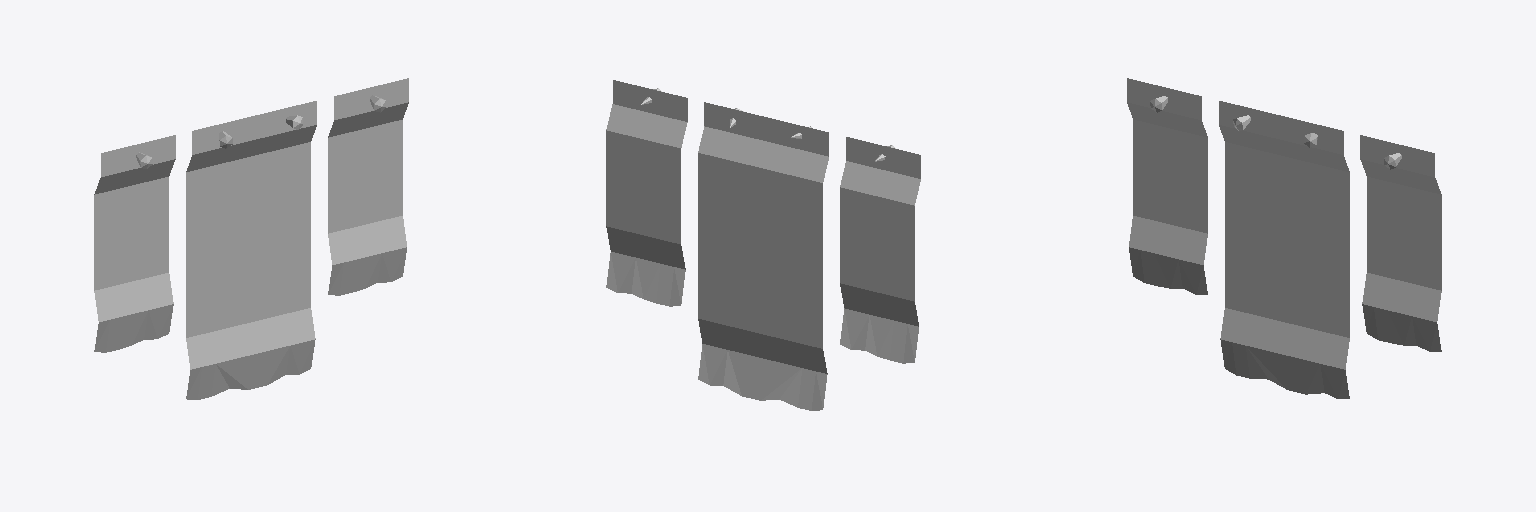
The model's file is banner_triple_brown.obj.
3 renders of one model, left to right at view 1: azimuth 30°, elevation 25°; view 2: azimuth 150°, elevation 25°; view 3: azimuth 330°, elevation 25°, orthographic.
Visible parts, largest first — view 1: banner_triple_brown; view 2: banner_triple_brown; view 3: banner_triple_brown.
Part boxes in pixels (bbox=[...]): banner_triple_brown: bbox=[94, 78, 408, 399]; banner_triple_brown: bbox=[606, 80, 920, 410]; banner_triple_brown: bbox=[1127, 78, 1441, 398].
Bounding box in the file's own units: 3.7 × 3.2 × 0.3623.